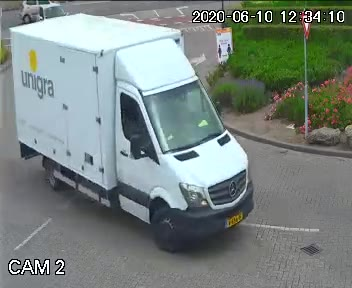car: (0, 15, 281, 254)
